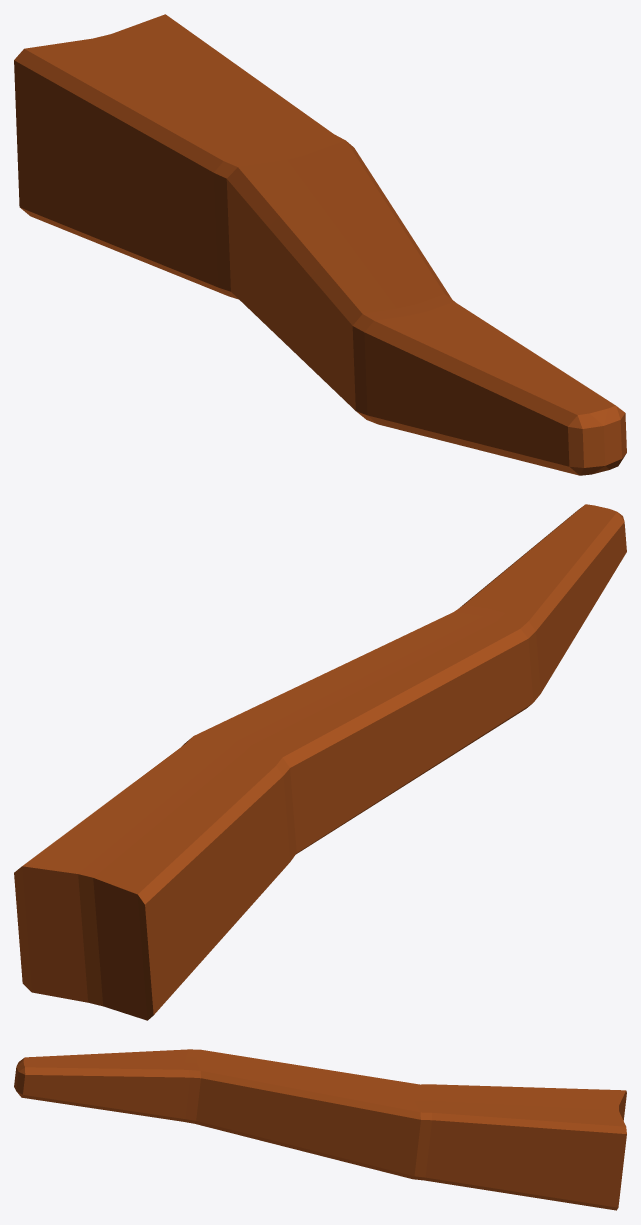
Rendered from agac_dal4.fbx.
3 views of the same model, one above another, from view 1: azimuth 30°, elevation 25°; view 2: azimuth 150°, elevation 25°; view 3: azimuth 270°, elevation 25° (orthographic). The views are drawn at different scales.
Parts seen in each view (by area): view 1: Cylinder.003; view 2: Cylinder.003; view 3: Cylinder.003.
Part boxes in pixels (x1=…): Cylinder.003: x1=14, y1=14, x2=626, y2=475; Cylinder.003: x1=14, y1=504, x2=626, y2=1020; Cylinder.003: x1=14, y1=1049, x2=626, y2=1210.
Bounding box in the file's own units: 1.64 × 1.51 × 7.3.
